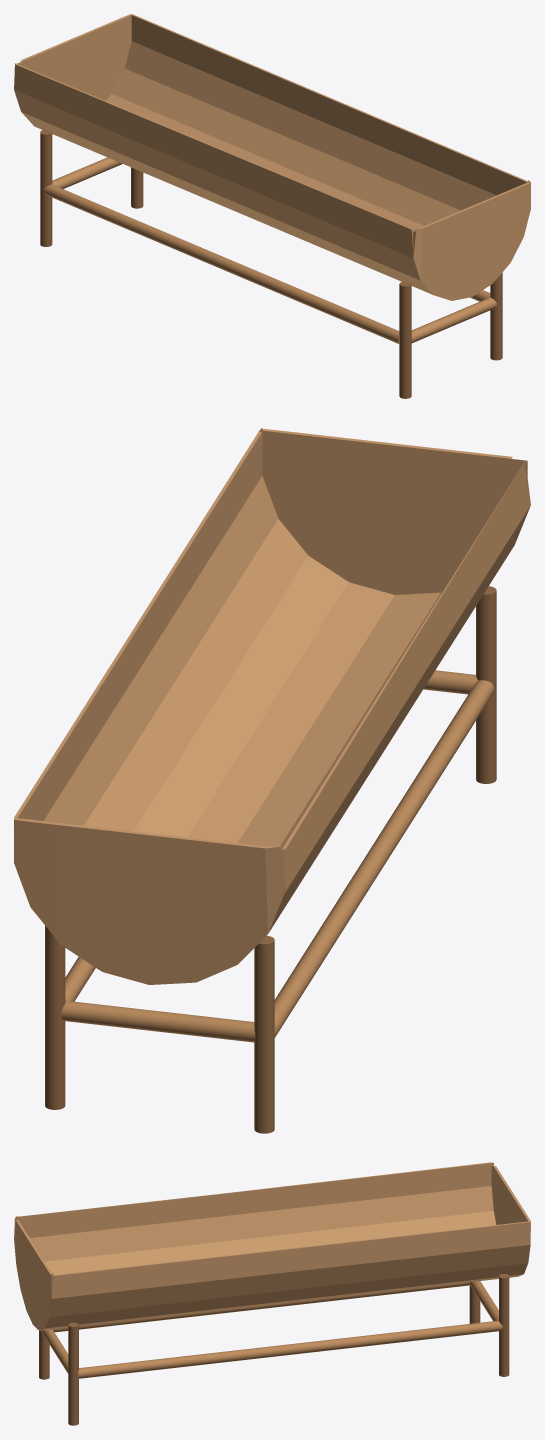
File: Feeding_Trough.glb
3 views of the same model, one above another, from view 1: azimuth 30°, elevation 25°; view 2: azimuth 150°, elevation 25°; view 3: azimuth 270°, elevation 25° (orthographic). The views are drawn at different scales.
Visible parts, largest first — view 1: Cylinder001, Cylinder006, Cylinder002, Cylinder005, Cylinder008, Cylinder003, Cylinder009, Cylinder004; view 2: Cylinder001, Cylinder006, Cylinder009, Cylinder005, Cylinder002, Cylinder004, Cylinder008, Cylinder007; view 3: Cylinder001, Cylinder007, Cylinder006, Cylinder003, Cylinder004, Cylinder009, Cylinder002, Cylinder008, Cylinder005.
Boxes of the visible parts, x1,y1,x2,y2 form: Cylinder001: (14, 14, 530, 300); Cylinder006: (42, 184, 399, 344); Cylinder002: (399, 281, 411, 398); Cylinder005: (40, 129, 52, 246); Cylinder008: (411, 297, 496, 343); Cylinder003: (490, 272, 502, 360); Cylinder009: (52, 157, 122, 188); Cylinder004: (131, 167, 143, 208); Cylinder001: (14, 428, 530, 984); Cylinder006: (274, 680, 493, 1037); Cylinder009: (61, 1000, 255, 1042); Cylinder005: (254, 935, 274, 1133); Cylinder002: (476, 586, 496, 783); Cylinder004: (45, 925, 65, 1109); Cylinder008: (423, 670, 477, 694); Cylinder007: (65, 957, 95, 1001); Cylinder001: (14, 1162, 530, 1330); Cylinder007: (78, 1320, 502, 1378); Cylinder006: (52, 1282, 469, 1332); Cylinder003: (68, 1322, 78, 1425); Cylinder004: (499, 1274, 509, 1376); Cylinder009: (469, 1281, 498, 1321); Cylinder002: (39, 1331, 49, 1379); Cylinder008: (41, 1329, 68, 1373); Cylinder005: (469, 1285, 480, 1323).
Bounding box in the file's own units: 338523 × 220989 × 650311.
